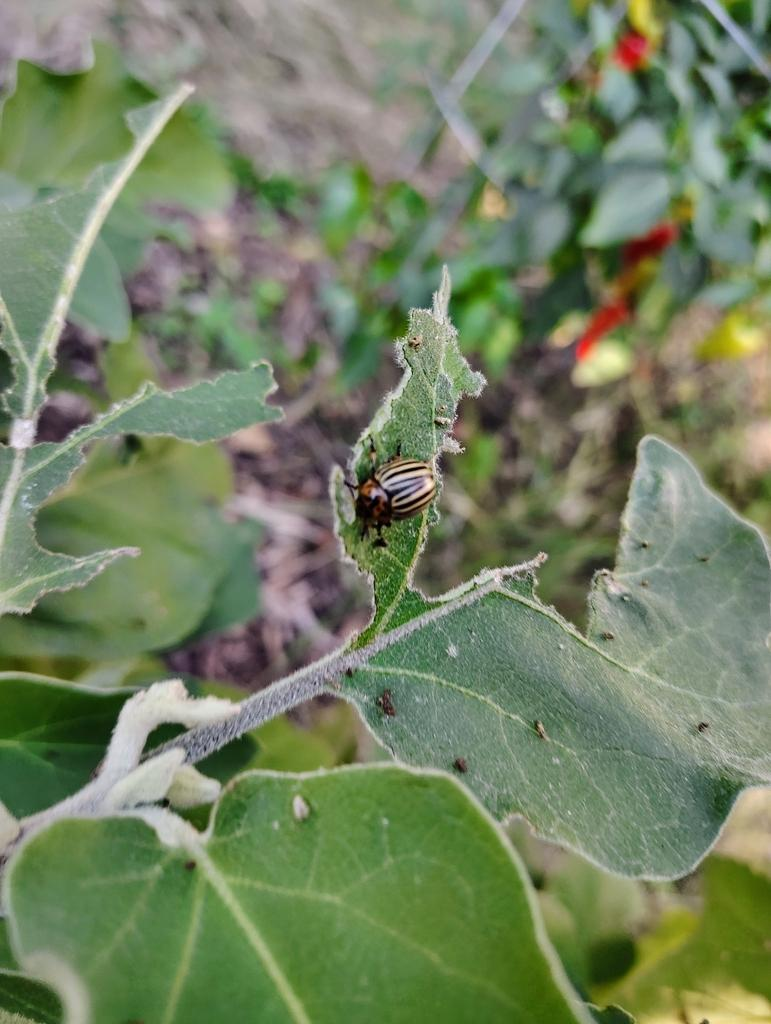potato_beetle: (312, 421, 470, 551)
